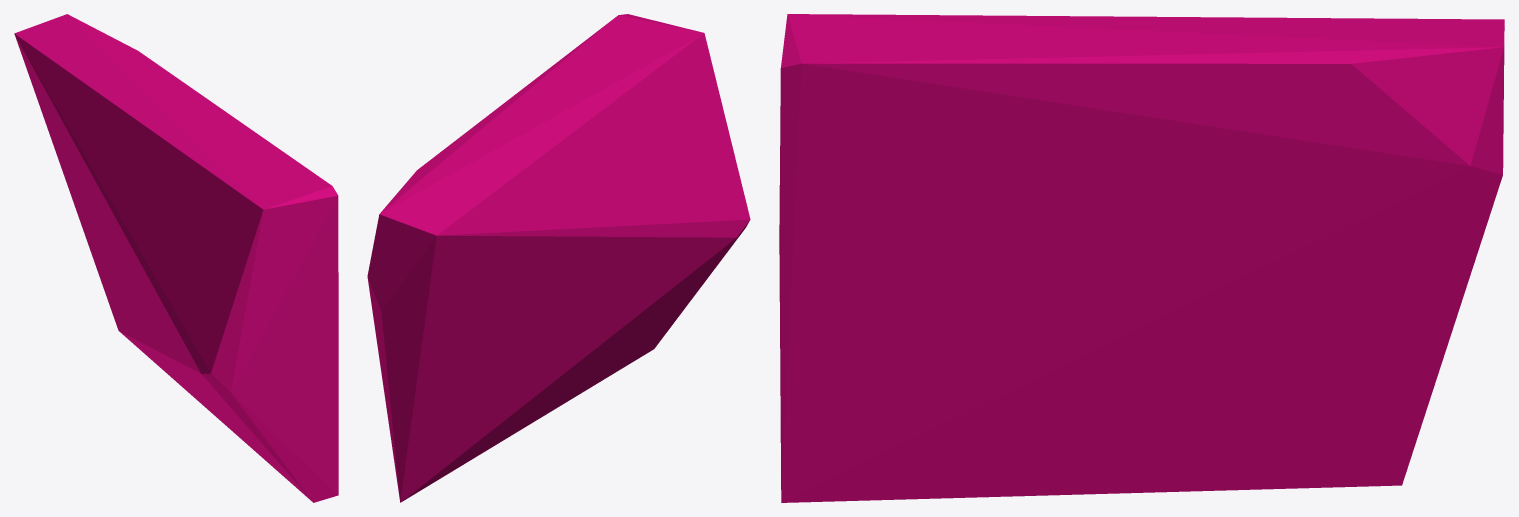
The model's file is shoulder-roll-housing-mirror_convex_piece_011.obj.
3 views of the same model, side by side, from view 1: azimuth 30°, elevation 25°; view 2: azimuth 150°, elevation 25°; view 3: azimuth 270°, elevation 25° (orthographic). The views are drawn at different scales.
Size of the model in its own units: 0.0171 by 0.0412 by 0.0612.
